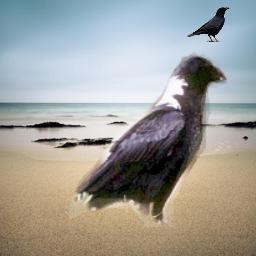Crow: (69, 49, 228, 227), (187, 7, 230, 42)
